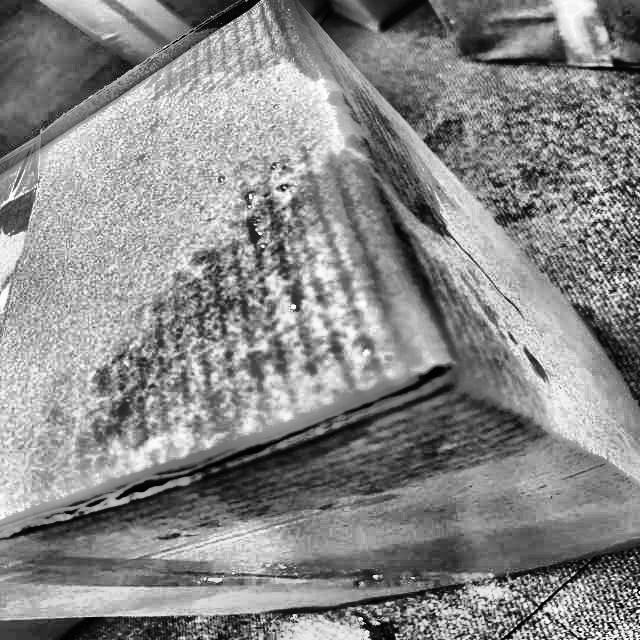box: (0, 0, 639, 626)
wet: (122, 155, 550, 519)
